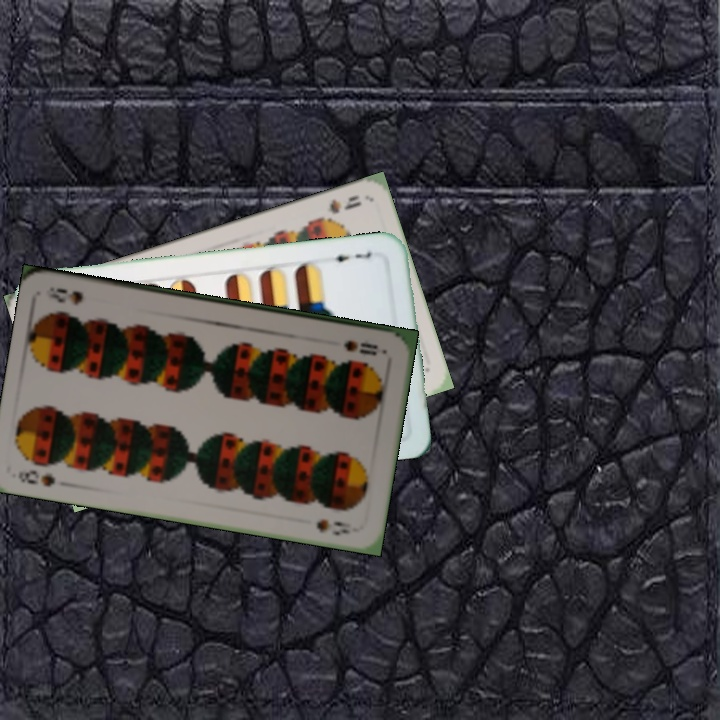E7: (325, 247, 375, 265)
S8: (14, 465, 58, 490), (339, 336, 381, 358)
S9: (309, 191, 364, 226)
